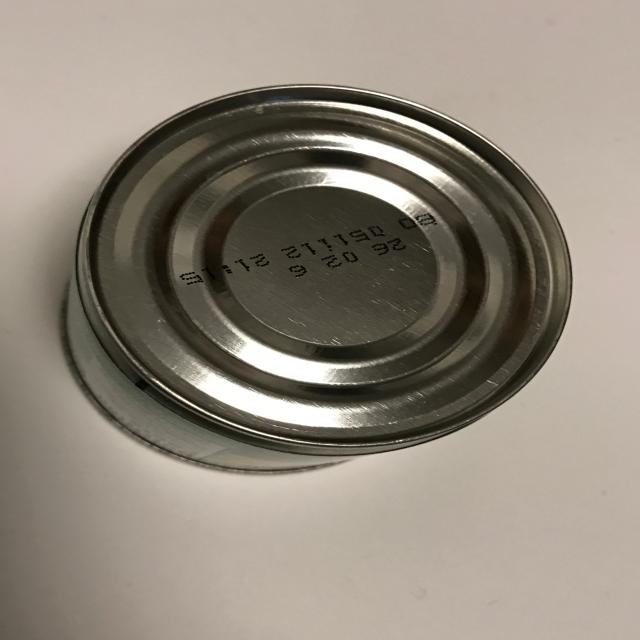metal: (63, 83, 574, 474)
